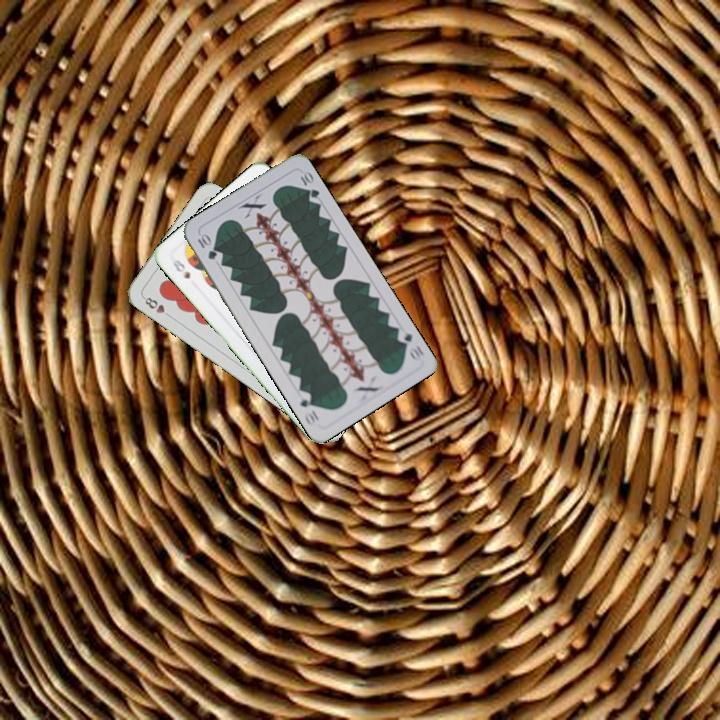G10: (393, 325, 427, 363), (193, 229, 219, 262)
H8: (139, 293, 175, 320)
S8: (168, 256, 193, 282)
